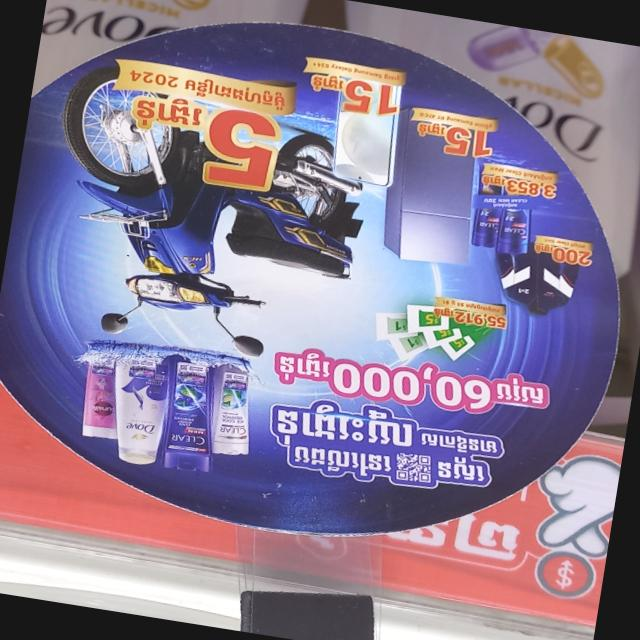590: (435, 124, 497, 166), (340, 76, 395, 122)
643: (547, 244, 596, 273)
650: (129, 71, 178, 90)
735: (501, 174, 558, 205)
764: (193, 109, 293, 203)
790: (450, 309, 510, 336)
804: (331, 350, 496, 419)
893: (177, 75, 288, 114)
Yolov11kh: (271, 398, 415, 449), (288, 445, 391, 486), (129, 95, 203, 133), (275, 345, 331, 387), (434, 454, 494, 491), (421, 428, 499, 455), (495, 372, 547, 407), (306, 73, 349, 97), (414, 119, 453, 145)
